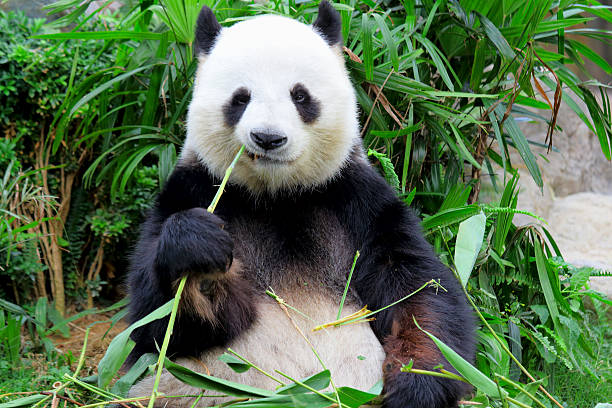panda: (168, 1, 376, 214)
